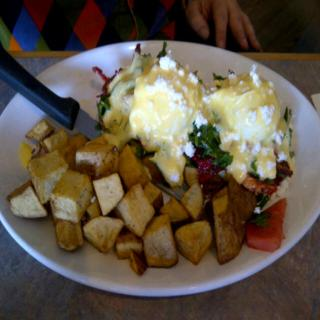Cheese: (101, 48, 203, 186), (200, 59, 296, 187)
Salad: (0, 47, 306, 292)
